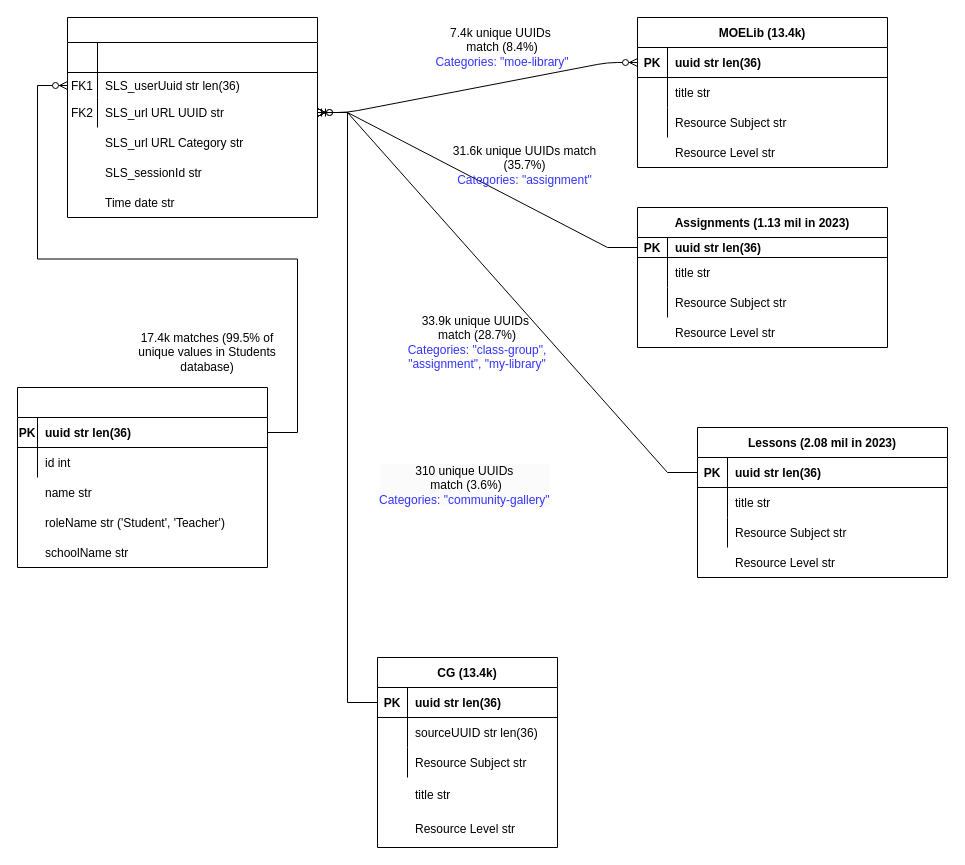
Image size: 965x865. Some labels were removed from this diagram. Here are the shapes that lost their labels. From the top down, the box of each, then its label:
(66, 16, 318, 218): Graylog (Teachers) - 1.18 mil in Nov 2023
(16, 386, 268, 568): User_school.csv
